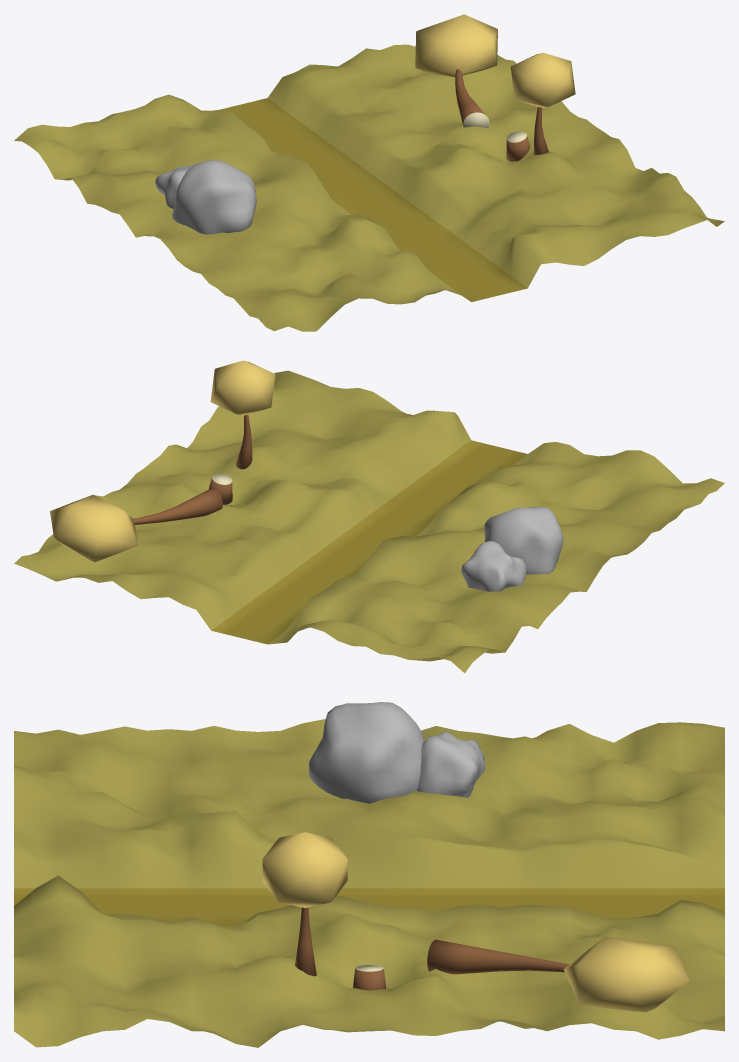
The model's file is badworld.glb.
The picture shows the model from 3 angles, top to bottom: view 1: azimuth 30°, elevation 25°; view 2: azimuth 150°, elevation 25°; view 3: azimuth 270°, elevation 25°; orthographic projection. The views are drawn at different scales.
Visible parts, largest first — view 1: Plane.008; view 2: Plane.008; view 3: Plane.008.
Boxes of the visible parts, left/top/right/bottom form: Plane.008: left=14, top=14, right=724, bottom=331; Plane.008: left=14, top=360, right=724, bottom=673; Plane.008: left=14, top=702, right=724, bottom=1047.
Bounding box in the file's own units: 10.29 × 2.96 × 10.29.
